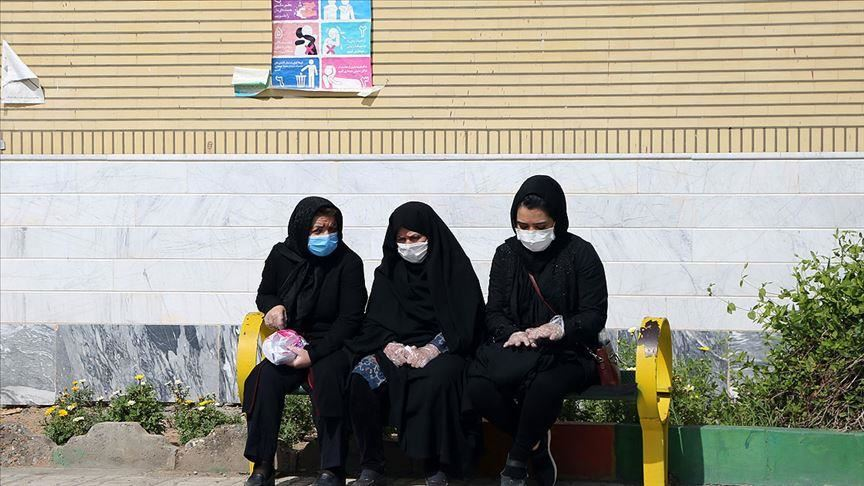Person: (262, 199, 372, 452), (485, 172, 598, 402), (382, 202, 475, 469)
